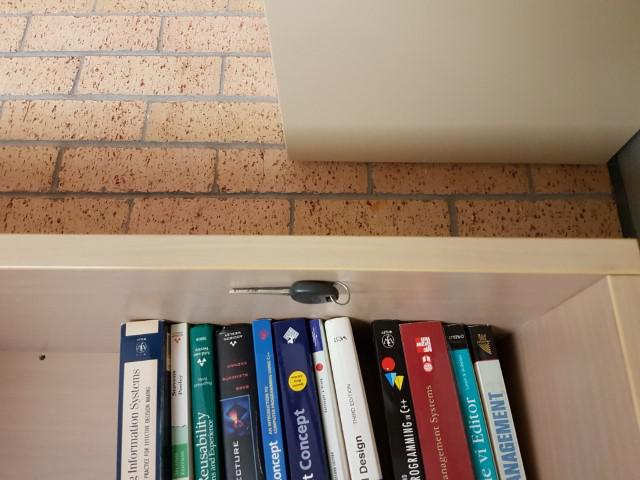key: (224, 274, 352, 308)
